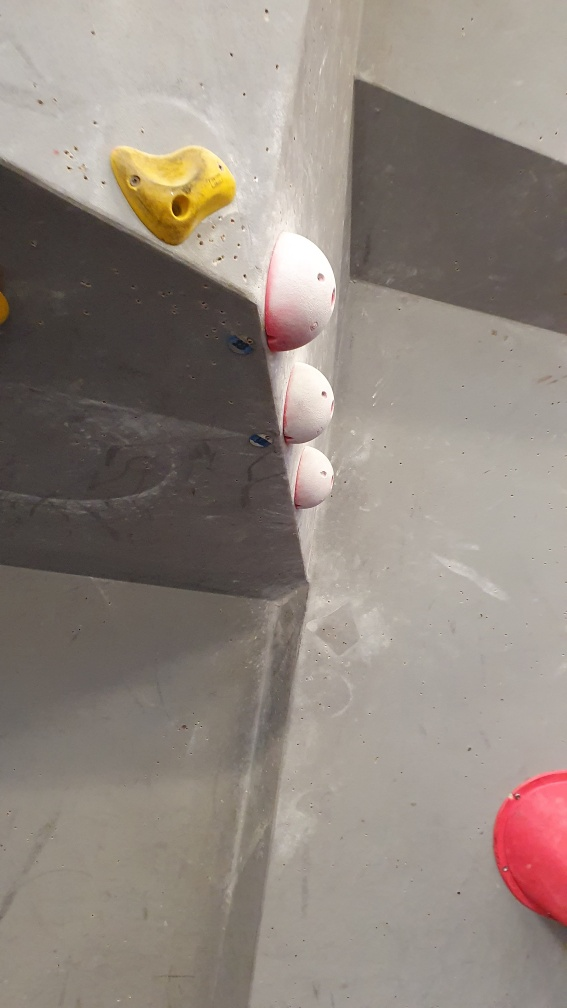Hand Start: (224, 329, 254, 360), (247, 428, 274, 452)
Sloper: (262, 229, 342, 359), (279, 360, 339, 452), (291, 441, 339, 513)
